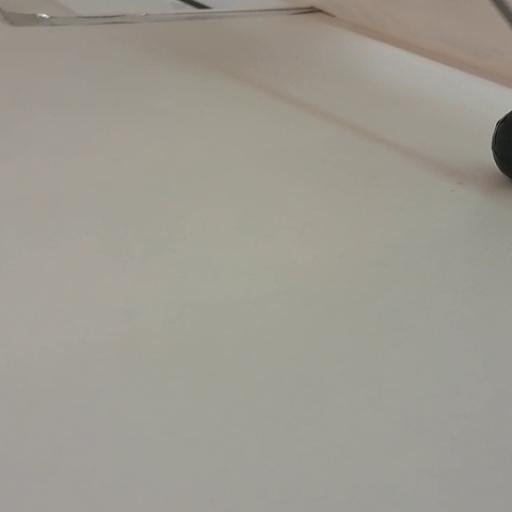dead: (490, 105, 512, 180)
